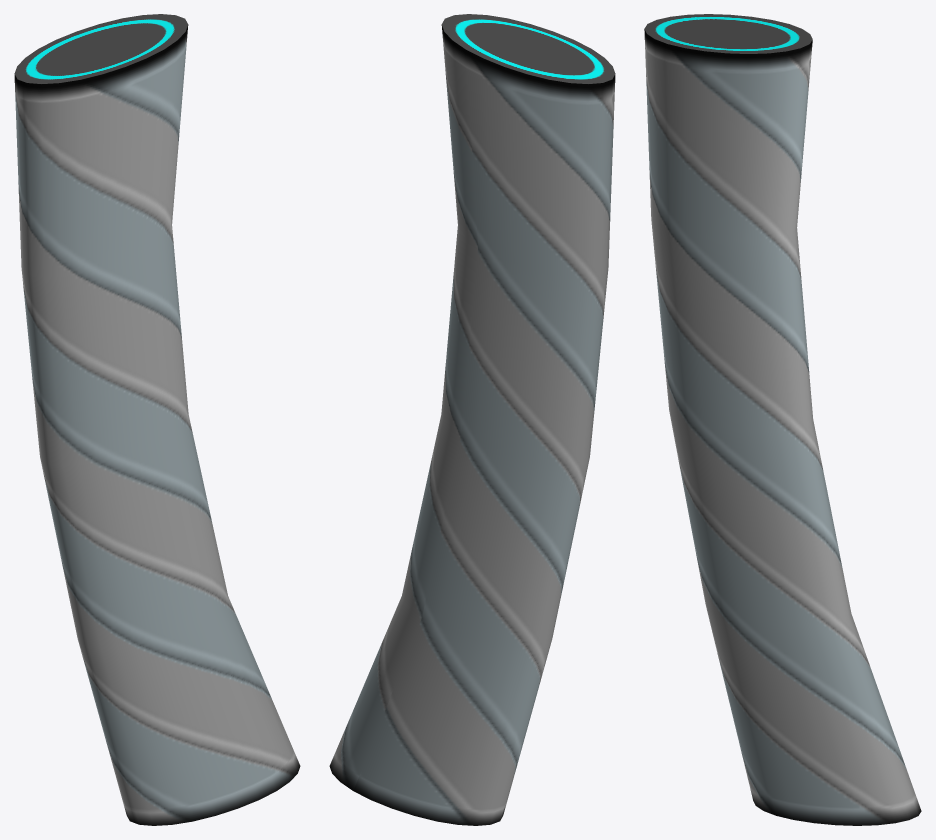
The model's file is handle_501.fbx.
3 renders of one model, left to right at view 1: azimuth 30°, elevation 25°; view 2: azimuth 150°, elevation 25°; view 3: azimuth 330°, elevation 25°, orthographic. The views are drawn at different scales.
Visible parts, largest first — view 1: handle_501; view 2: handle_501; view 3: handle_501.
Boxes of the visible parts, left/top/right/bottom form: handle_501: left=14, top=14, right=300, bottom=825; handle_501: left=329, top=14, right=615, bottom=825; handle_501: left=644, top=14, right=921, bottom=825.
Bounding box in the file's own units: 2.8 × 7.55 × 0.8431.
